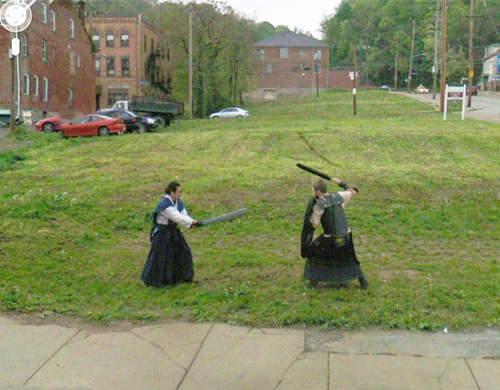people: (309, 179, 367, 293), (145, 184, 198, 286)
